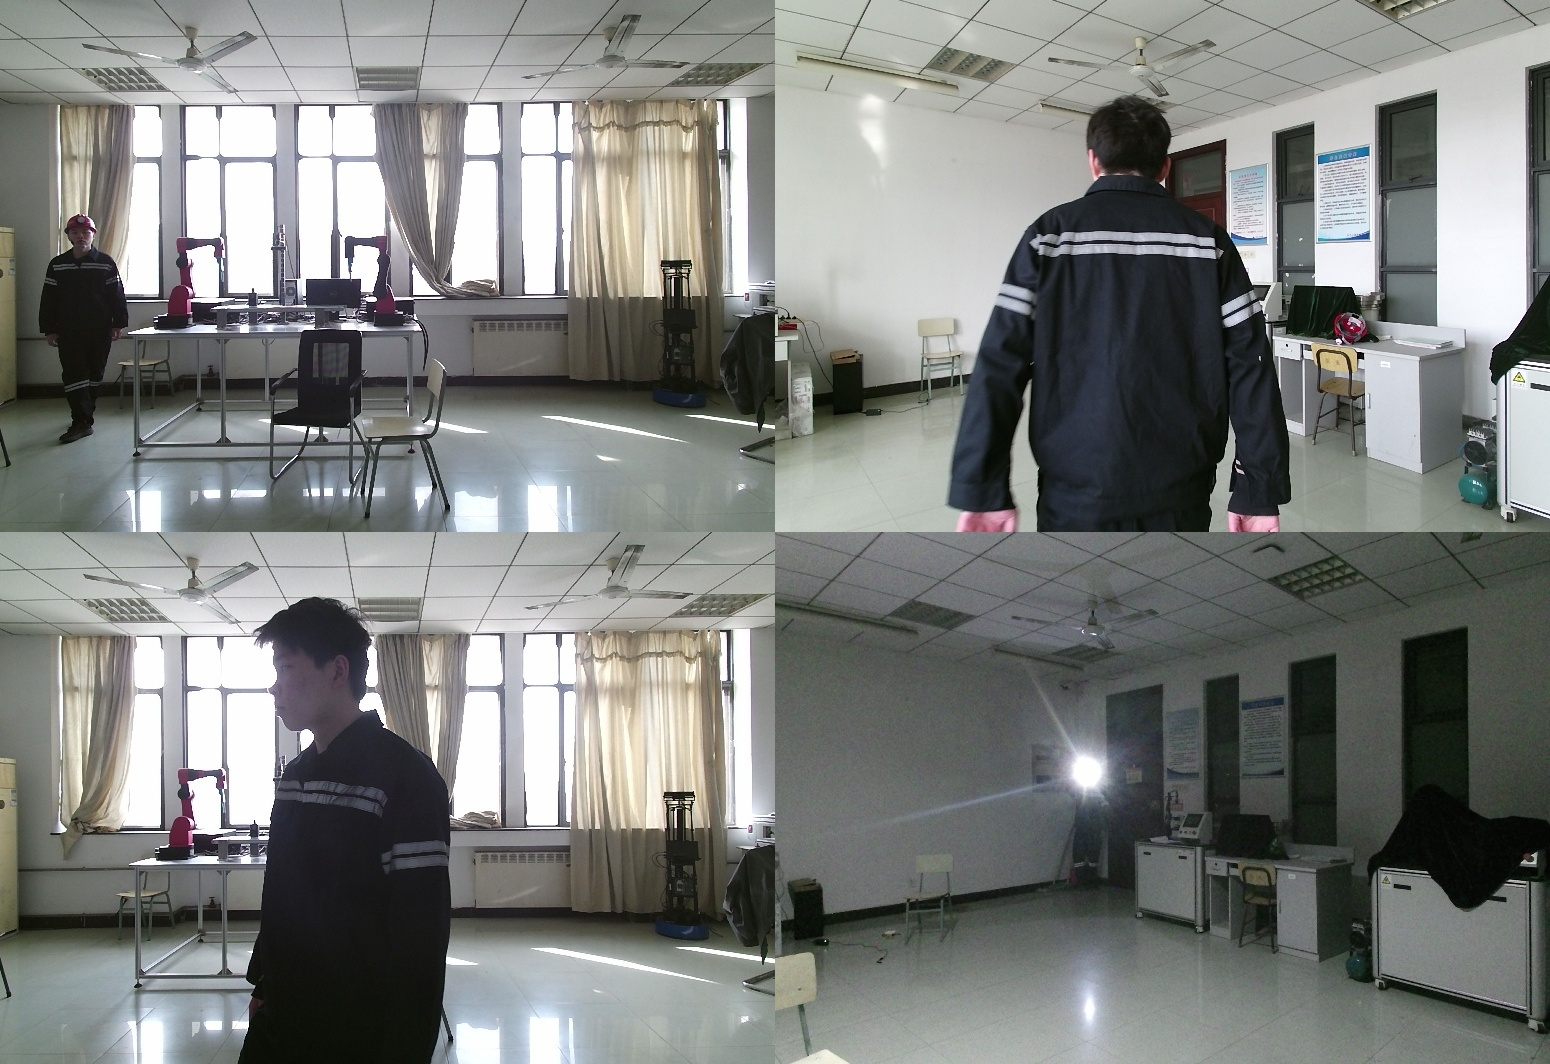person: (945, 94, 1291, 532), (250, 596, 496, 1064), (37, 216, 129, 443), (1067, 771, 1108, 891)
